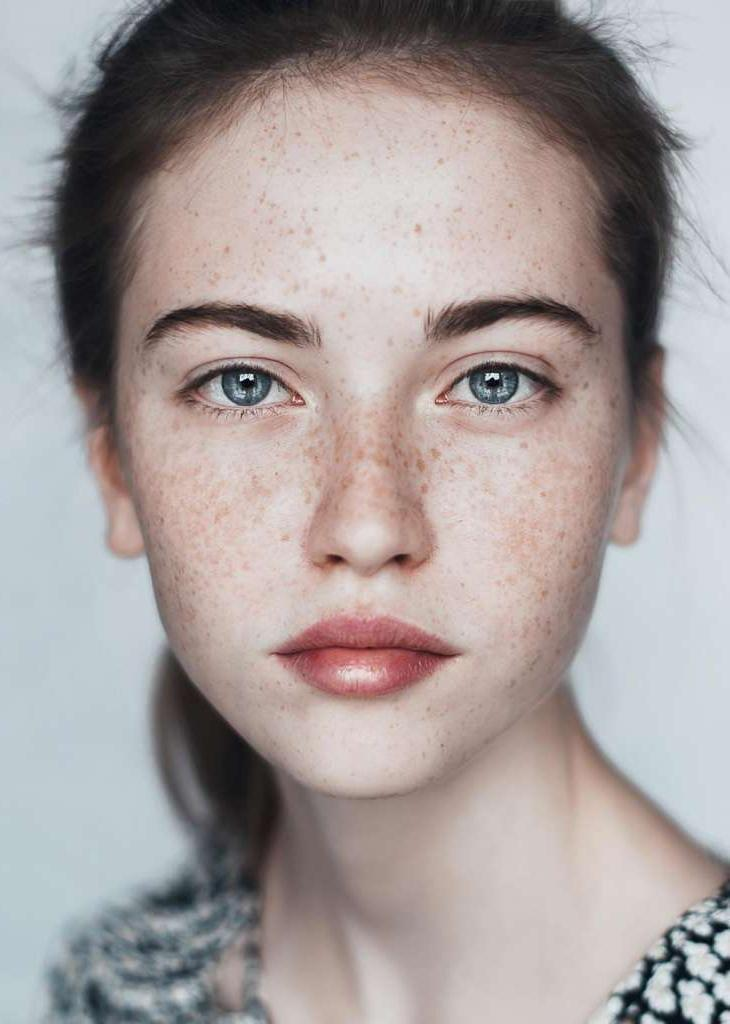Sober: (143, 132, 603, 721)
